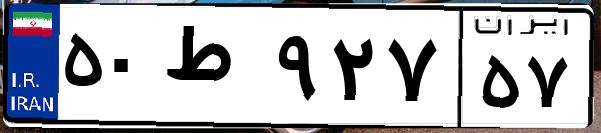0: (110, 28, 158, 98)
2: (330, 28, 385, 110)
5: (57, 26, 110, 100), (475, 38, 525, 113)
7: (385, 28, 445, 110), (525, 38, 570, 115)
9: (270, 28, 330, 110)
ط: (158, 20, 270, 120)
